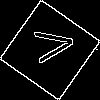V: (25, 25, 76, 66)
